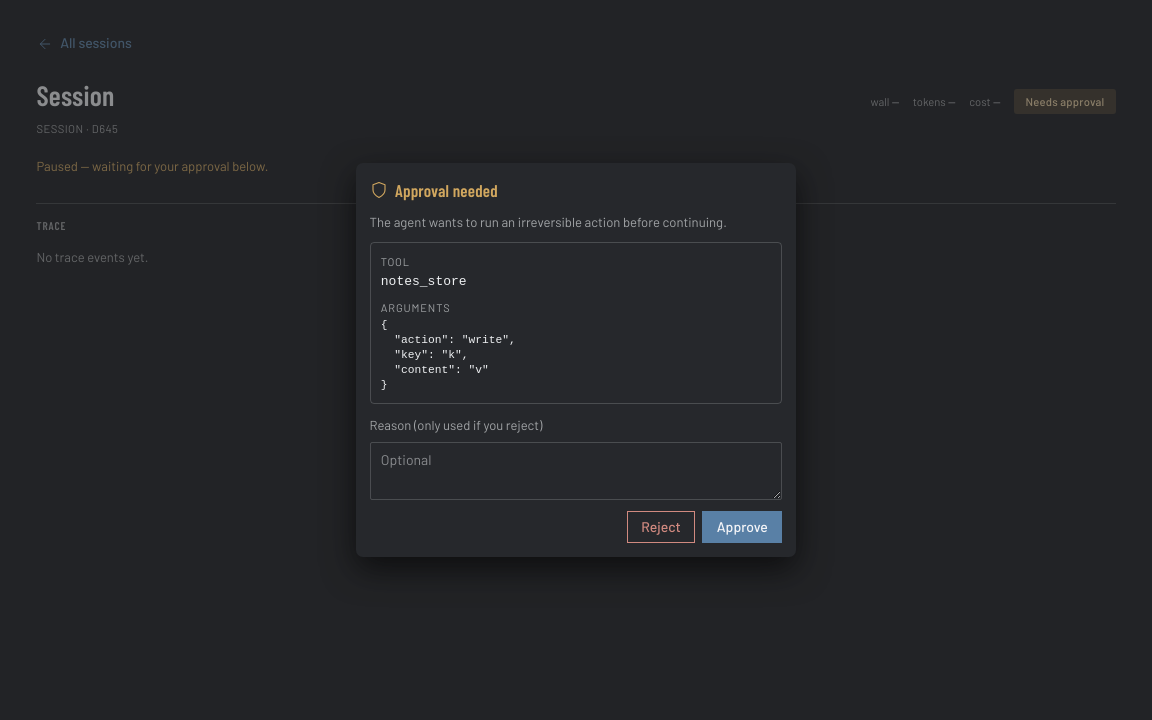
Scenario: SessionPage › shows an approval modal when the session has a pending action, and approving resolves it
Expected: the dialog is shown, [356, 163, 796, 557]
Click the button "Approve". click: coordinates (742, 527)
box: [702, 511, 782, 544]
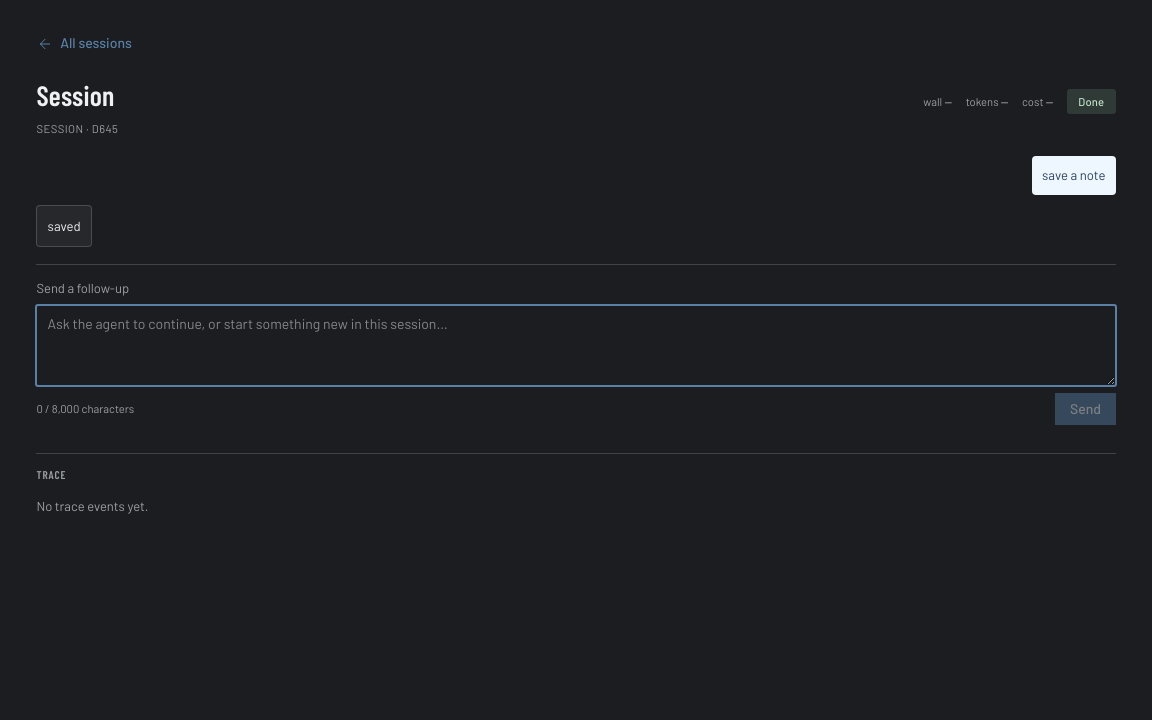
Result: the text "saved" is shown at [36, 205, 92, 246]
Result: the dialog is gone
